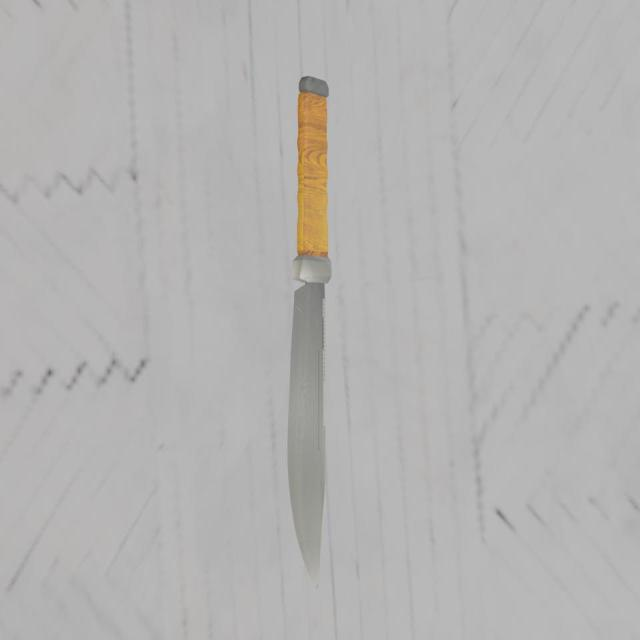knife: (298, 81, 332, 285)
